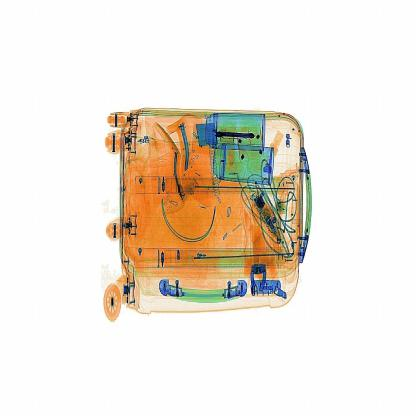knife: (210, 121, 261, 150)
